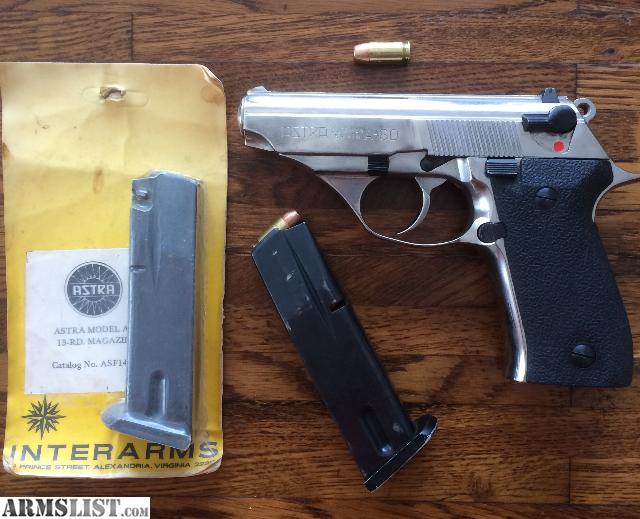gun: (236, 84, 638, 394), (234, 82, 636, 392)
